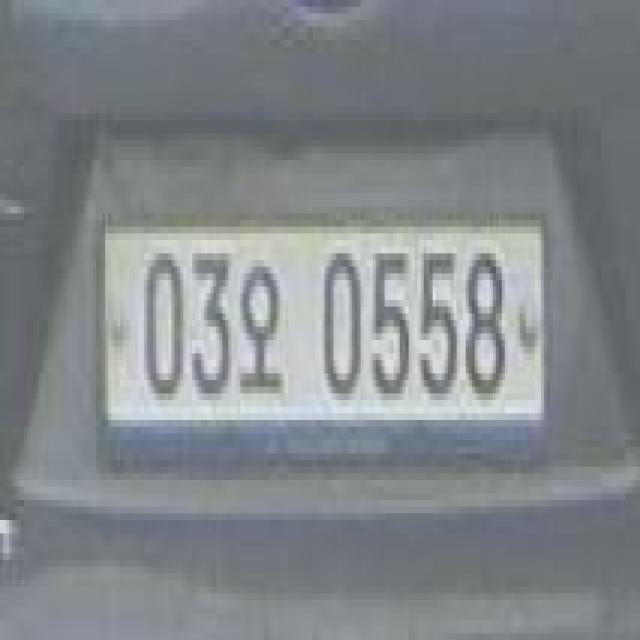illegal_plate: (97, 199, 548, 472)
